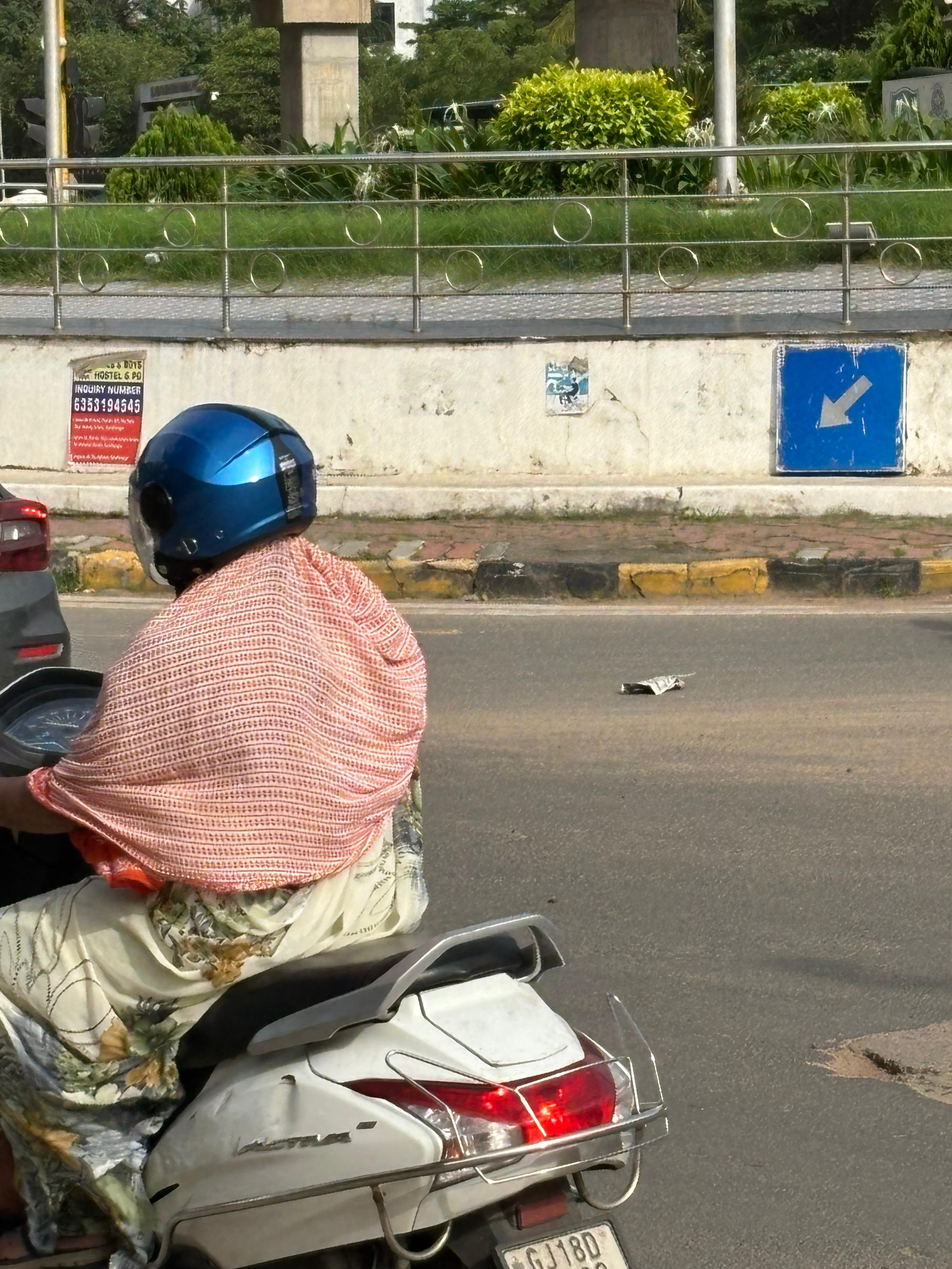BikeWithRider: (0, 386, 681, 1269)
Helmet: (111, 393, 324, 585)
